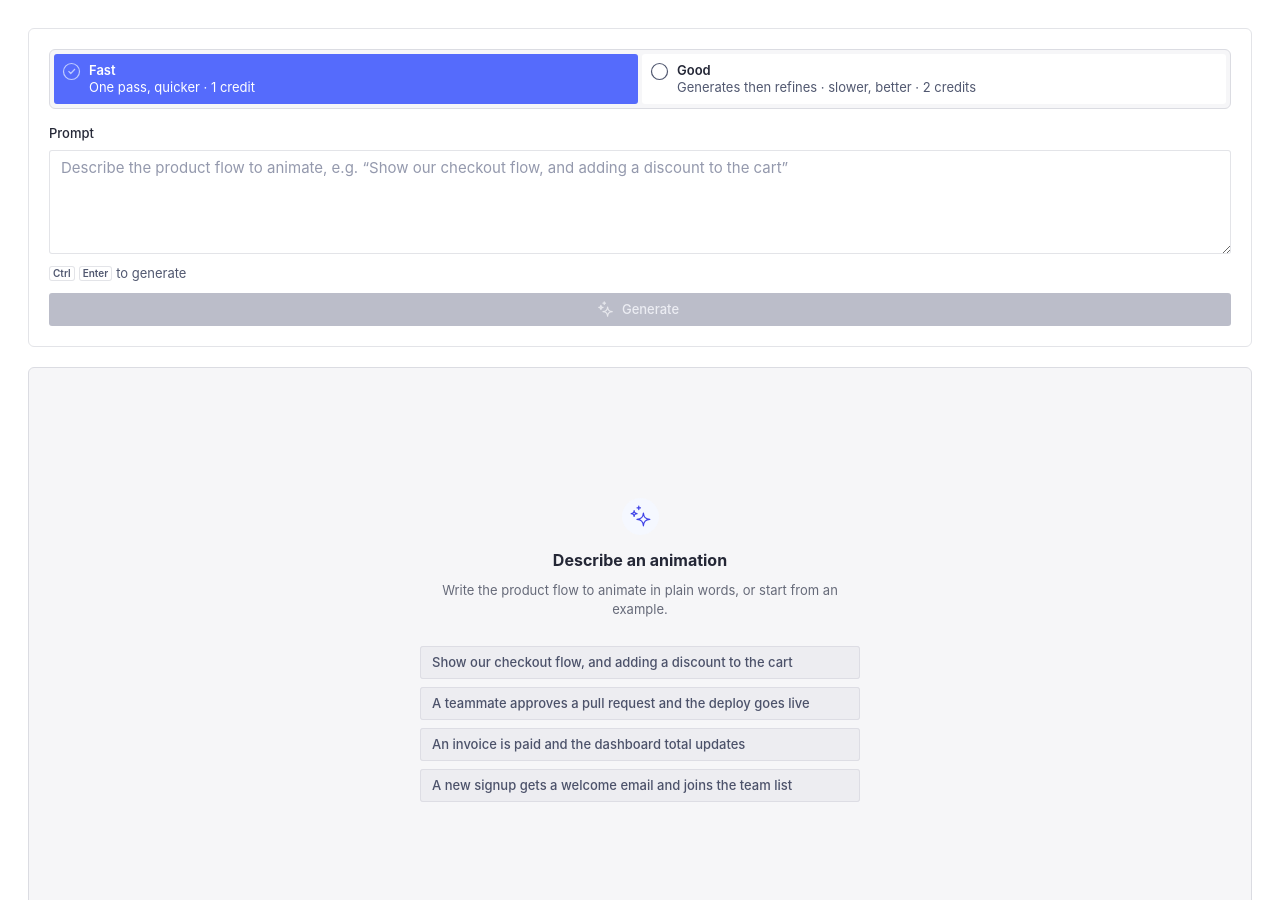
Test case: AnimationWorkspace: prompt and mode › fills the prompt from an example and focuses it
The width and height of the screenshot is (1280, 900).
Click the button "A teammate approves a pull request and the deploy goes live". click: click(640, 703)
box: [420,687,860,720]
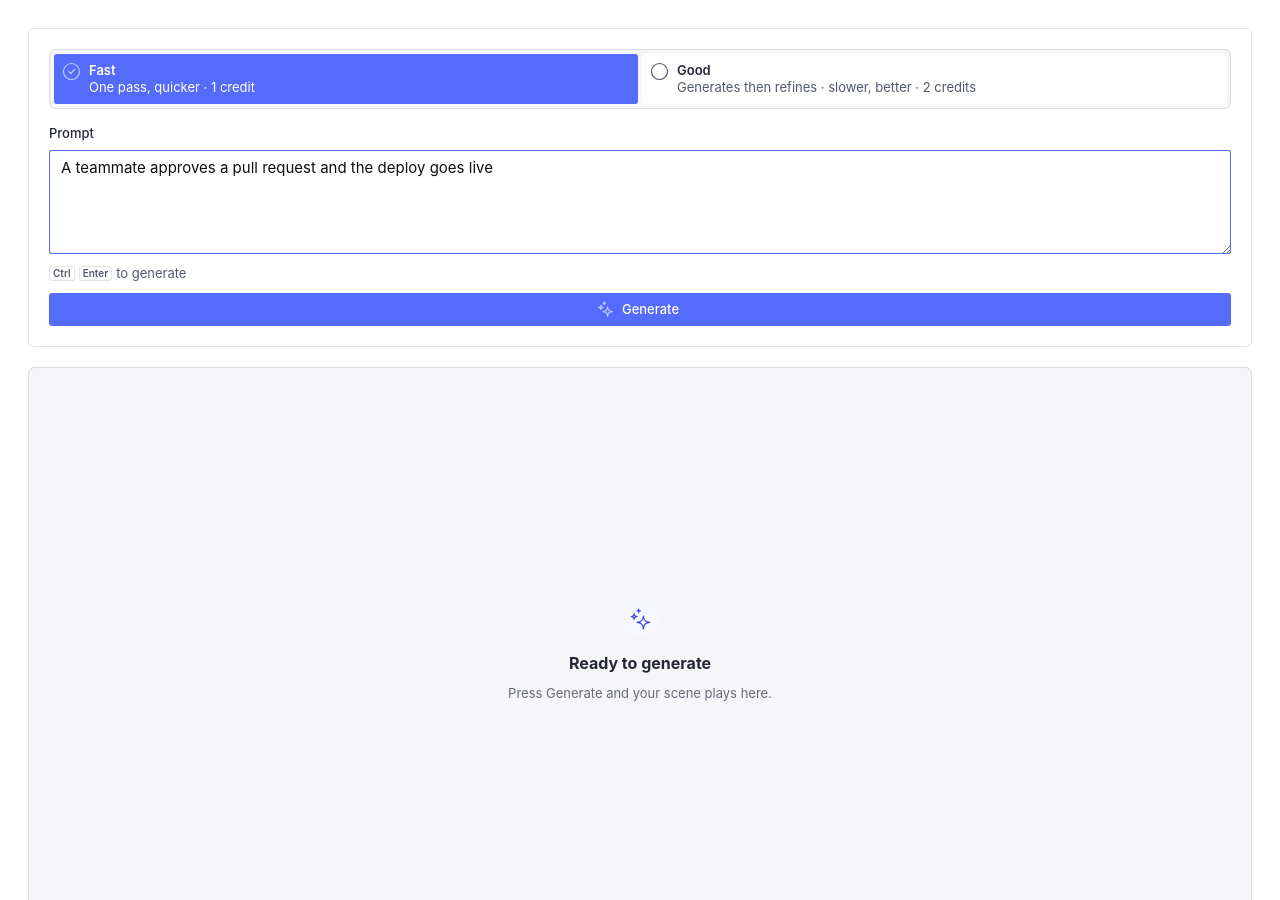
Expected: the text box labelled "Prompt" holds "A teammate approves a pull request and the deploy goes live", [49,150,1231,254]
